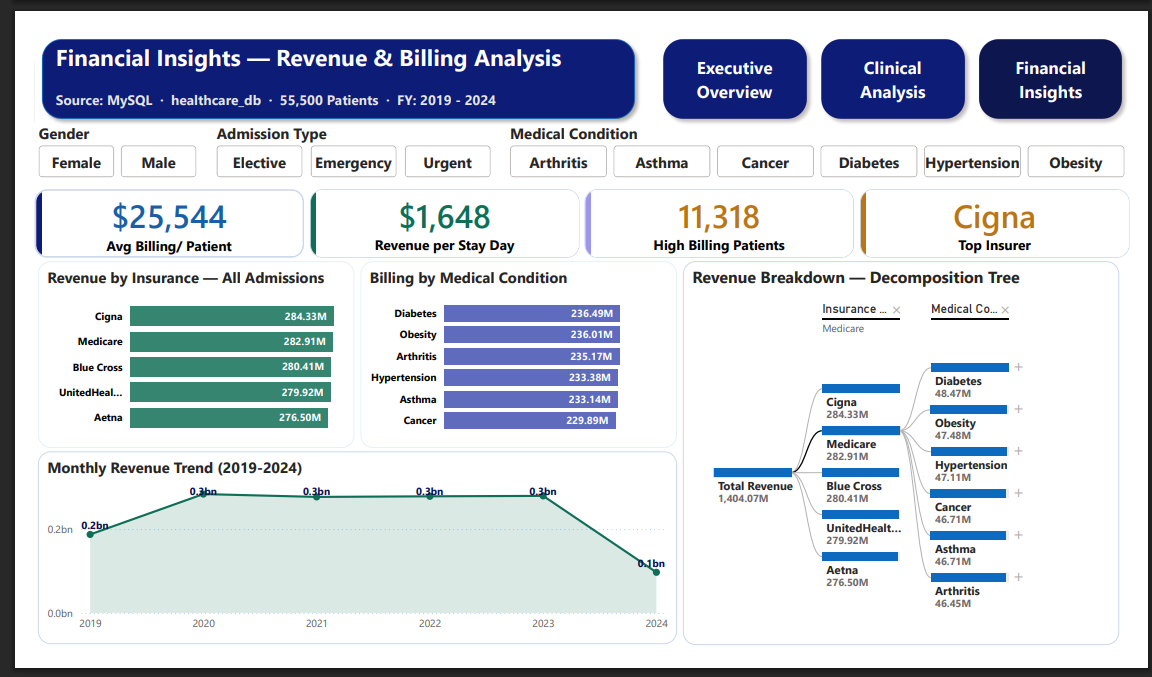

The dashboard page shown, as its layout file describes it:
{"tool":"powerbi","page":{"name":"Financial Insights","canvas":[1280,720],"ordinal":2},"visuals":[{"type":"cardVisual","fields":{"Data":["healthcare_db healthcare.Avg Billing"]},"box":[0,184.3,315,80],"z":0},{"type":"cardVisual","fields":{"Data":["healthcare_db healthcare.Revenue per Stay Day"]},"box":[321.7,184.3,315,80],"z":1000},{"type":"cardVisual","fields":{"Data":["healthcare_db healthcare.High Billing Patients"]},"box":[643.3,184.3,315,80],"z":2000},{"type":"advancedSlicerVisual","fields":{"Values":["healthcare_db healthcare.Gender"]},"box":[0,106.2,195,70],"z":3000},{"type":"advancedSlicerVisual","fields":{"Values":["healthcare_db healthcare.Admission_Type"]},"box":[208.1,106.2,330,70],"z":4000},{"type":"cardVisual","fields":{"Data":["healthcare_db healthcare.Top Insurer"]},"box":[965,184.3,315,80],"z":5000},{"type":"advancedSlicerVisual","fields":{"Values":["healthcare_db healthcare.Medical_Condition"]},"box":[551.2,106.2,728.8,70],"z":6000},{"type":"actionButton","box":[726.3,0,184.6,109.8],"z":7000},{"type":"actionButton","box":[1096.2,0,183.8,110],"z":8000},{"type":"actionButton","box":[911.2,0,185,110],"z":9000},{"type":"shape","box":[0,0,710,110],"z":10000},{"type":"textbox","box":[19.6,6.1,707,63.8],"z":11000},{"type":"textbox","box":[20,63.8,697.5,42.5],"z":12000},{"type":"barChart","fields":{"Y":["healthcare_db healthcare.Total Revenue"],"Category":["healthcare_db healthcare.Insurance_Provider"]},"box":[3.8,267.5,370,218.8],"z":13000},{"type":"lineChart","title":"Monthly Revenue Trend (2019-2024)","fields":{"Category":["healthcare_db healthcare.Admission_Year","healthcare_db healthcare.Admission_Month"],"Y":["healthcare_db healthcare.Total Revenue"]},"box":[3.8,490,747.5,225],"z":14000},{"type":"barChart","title":"Billing by Medical Condition","fields":{"Category":["healthcare_db healthcare.Medical_Condition"],"Y":["Sum(healthcare_db healthcare.Billing_Amount)"]},"box":[381.2,267.5,370,218.8],"z":15000},{"type":"decompositionTreeVisual","title":"Revenue Breakdown — Decomposition Tree","fields":{"Analyze":["healthcare_db healthcare.Total Revenue"],"ExplainBy":["healthcare_db healthcare.Insurance_Provider","healthcare_db healthcare.Medical_Condition","healthcare_db healthcare.Admission_Type","healthcare_db healthcare.Gender"]},"box":[757.5,267.5,510,448.8],"z":15001}]}

Visuals, with their boxes on the page's 1280x720 design canvas (x1, y1, x2, y2). These are canvas units, not pixel positions in the 1152x677 screenshot, which may show the page scaled, cropped or inside an application window:
cardVisual - healthcare_db healthcare.Avg Billing: rect(0, 184, 315, 264)
cardVisual - healthcare_db healthcare.Revenue per Stay Day: rect(322, 184, 637, 264)
cardVisual - healthcare_db healthcare.High Billing Patients: rect(643, 184, 958, 264)
advancedSlicerVisual - healthcare_db healthcare.Gender: rect(0, 106, 195, 176)
advancedSlicerVisual - healthcare_db healthcare.Admission_Type: rect(208, 106, 538, 176)
cardVisual - healthcare_db healthcare.Top Insurer: rect(965, 184, 1280, 264)
advancedSlicerVisual - healthcare_db healthcare.Medical_Condition: rect(551, 106, 1280, 176)
actionButton: rect(726, 0, 911, 110)
actionButton: rect(1096, 0, 1280, 110)
actionButton: rect(911, 0, 1096, 110)
shape: rect(0, 0, 710, 110)
textbox: rect(20, 6, 727, 70)
textbox: rect(20, 64, 718, 106)
barChart - healthcare_db healthcare.Total Revenue x healthcare_db healthcare.Insurance_Provider: rect(4, 268, 374, 486)
"Monthly Revenue Trend (2019-2024)" lineChart: rect(4, 490, 751, 715)
"Billing by Medical Condition" barChart: rect(381, 268, 751, 486)
"Revenue Breakdown — Decomposition Tree" decompositionTreeVisual: rect(758, 268, 1268, 716)
